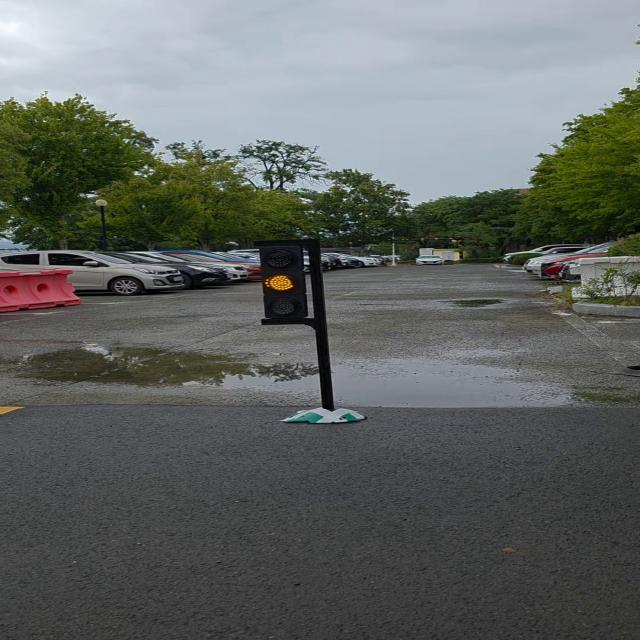yellow: (244, 235, 322, 327)
